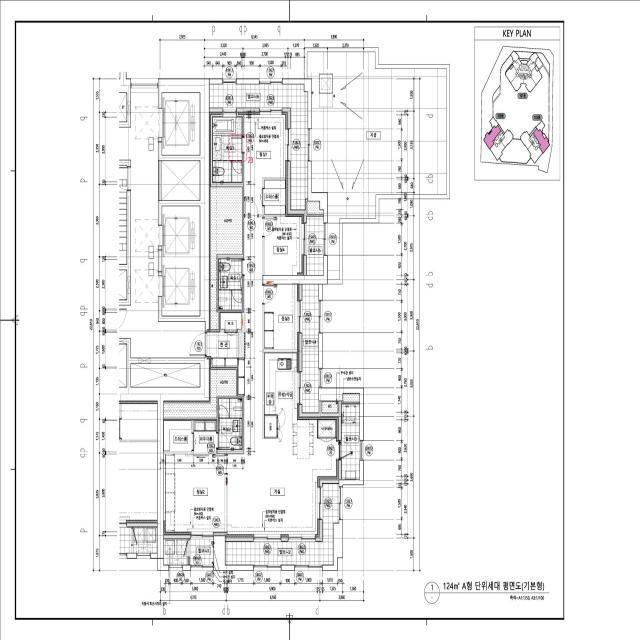space_balconi: (209, 84, 308, 210), (225, 484, 339, 565), (302, 284, 319, 413), (341, 404, 359, 479), (164, 539, 214, 565), (307, 217, 323, 275)
space_bedroom: (164, 454, 225, 536), (244, 112, 287, 215), (264, 215, 303, 275), (264, 284, 299, 349)
space_dressroom: (164, 420, 192, 452), (264, 180, 287, 214), (193, 420, 217, 452)
space_elevator: (158, 93, 200, 155), (158, 261, 200, 316), (158, 206, 200, 261)
space_elevator_hall: (131, 88, 205, 358)
space_front: (207, 312, 244, 368)
space_kitchen: (264, 353, 338, 479)
space_living_room: (225, 217, 319, 537)
space_other: (209, 187, 242, 330), (164, 370, 236, 418), (131, 364, 200, 387), (161, 161, 200, 200), (307, 201, 323, 214), (322, 402, 338, 413), (341, 394, 360, 402)
space_toilet: (212, 117, 242, 182), (218, 259, 242, 310), (218, 399, 242, 449)
